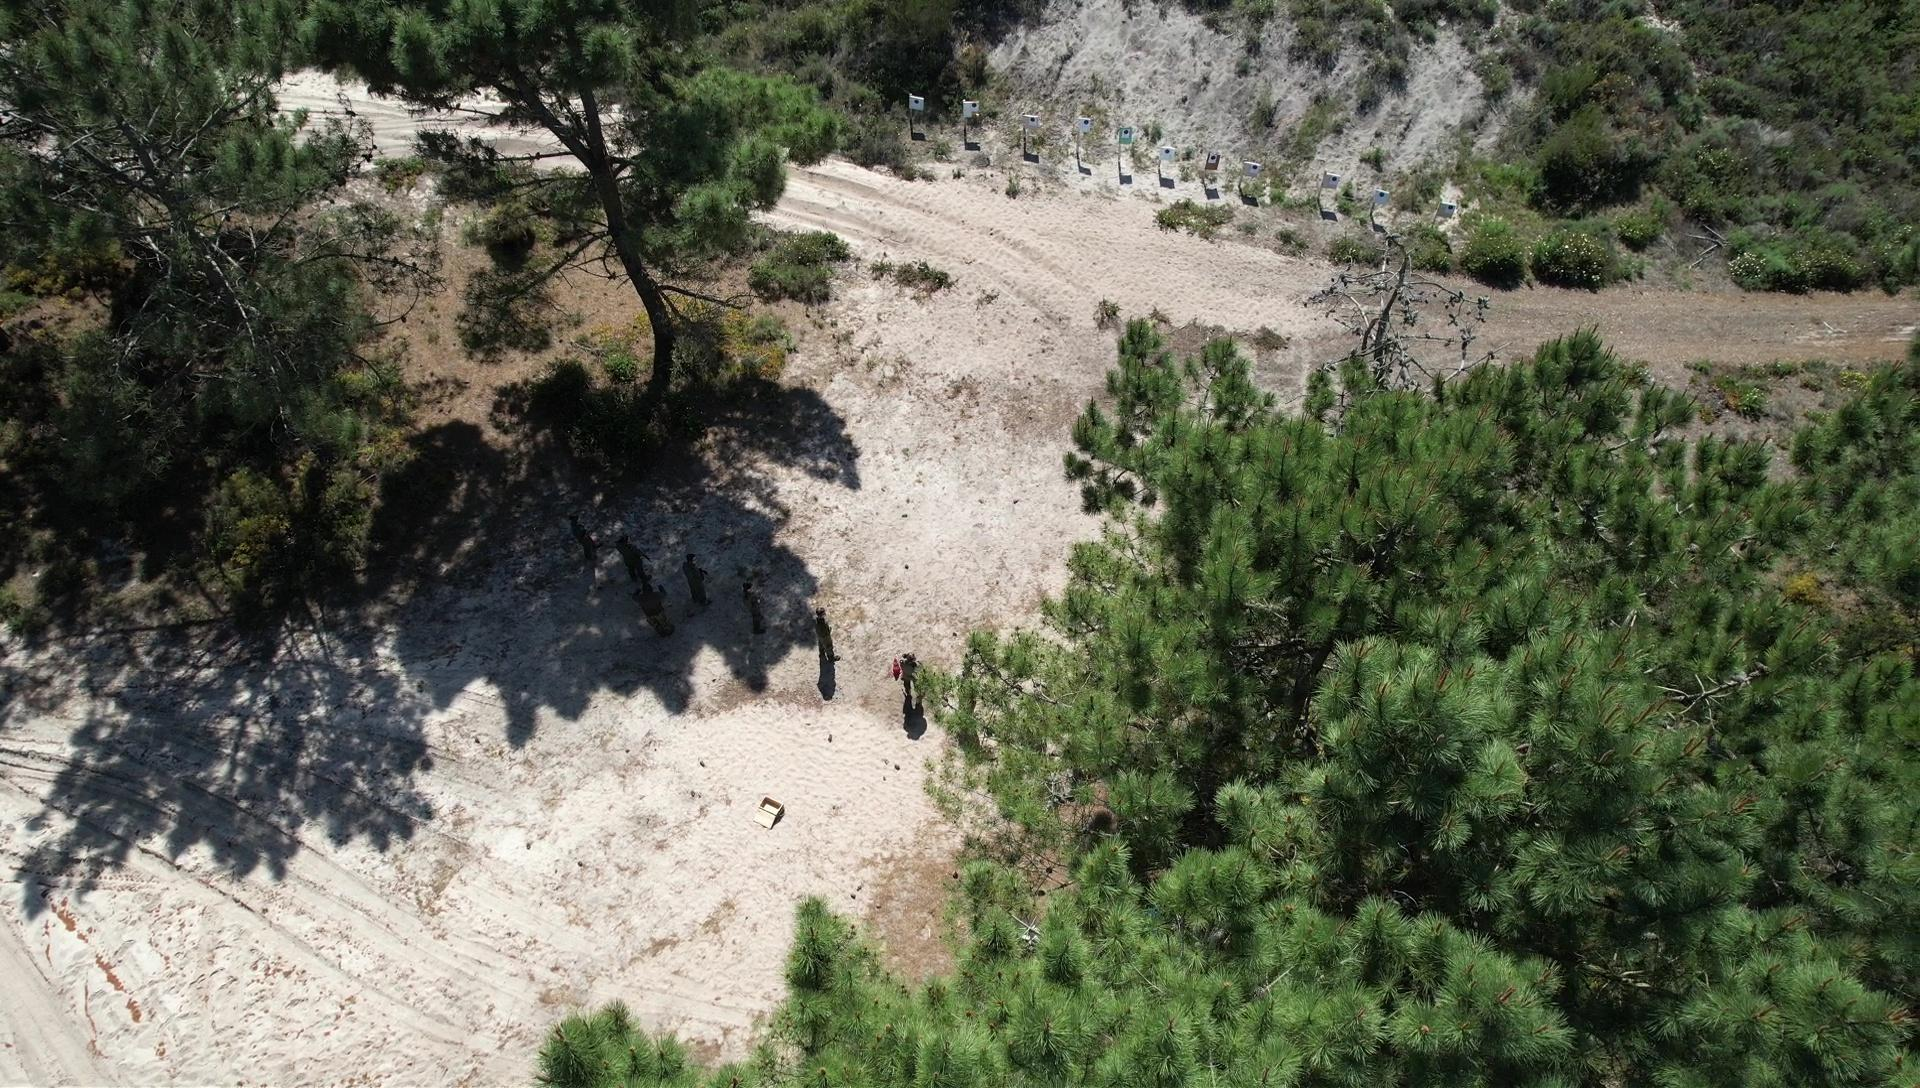Soldier: (632, 576, 679, 645), (676, 550, 717, 626), (615, 530, 658, 596), (731, 582, 771, 645), (808, 609, 844, 675), (891, 649, 924, 713), (568, 517, 603, 571)
